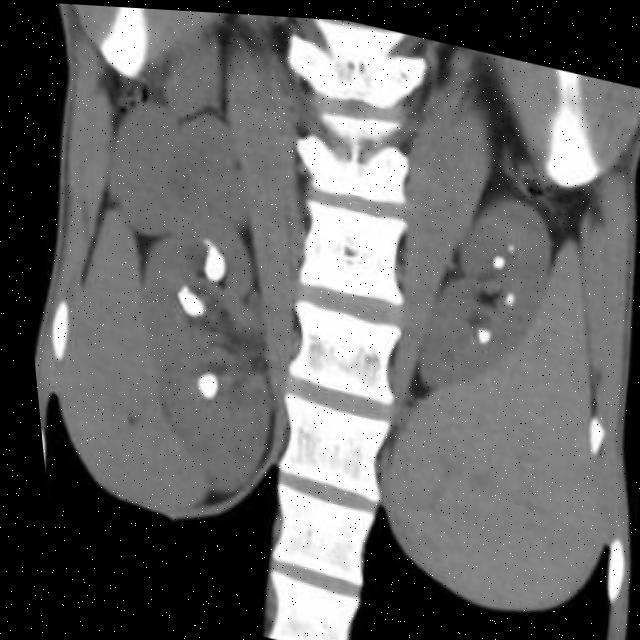Tas_Var: (170, 357, 222, 408), (184, 240, 230, 284), (159, 285, 204, 321), (456, 315, 488, 347), (478, 244, 506, 267), (493, 282, 511, 306), (162, 279, 190, 292), (189, 231, 213, 246), (497, 231, 514, 252)
